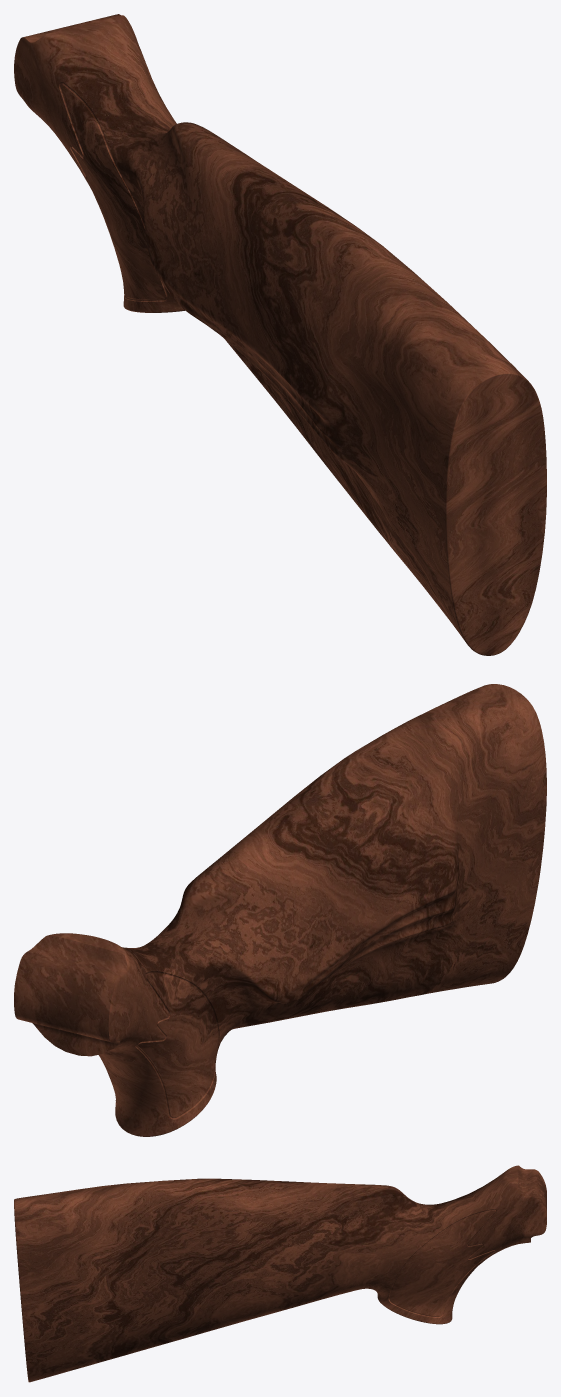
File: LOD-kopito.glb
3 views of the same model, one above another, from view 1: azimuth 30°, elevation 25°; view 2: azimuth 150°, elevation 25°; view 3: azimuth 270°, elevation 25° (orthographic). The views are drawn at different scales.
Visible parts, largest first — view 1: kopito; view 2: kopito; view 3: kopito.
Part boxes in pixels (x1,y1,x2,y2): kopito: (14, 14, 546, 655); kopito: (14, 684, 546, 1136); kopito: (14, 1165, 546, 1382).
Bounding box in the file's own units: 0.0536 × 0.1419 × 0.3366.
Materials: 1 (1 with a texture image).
